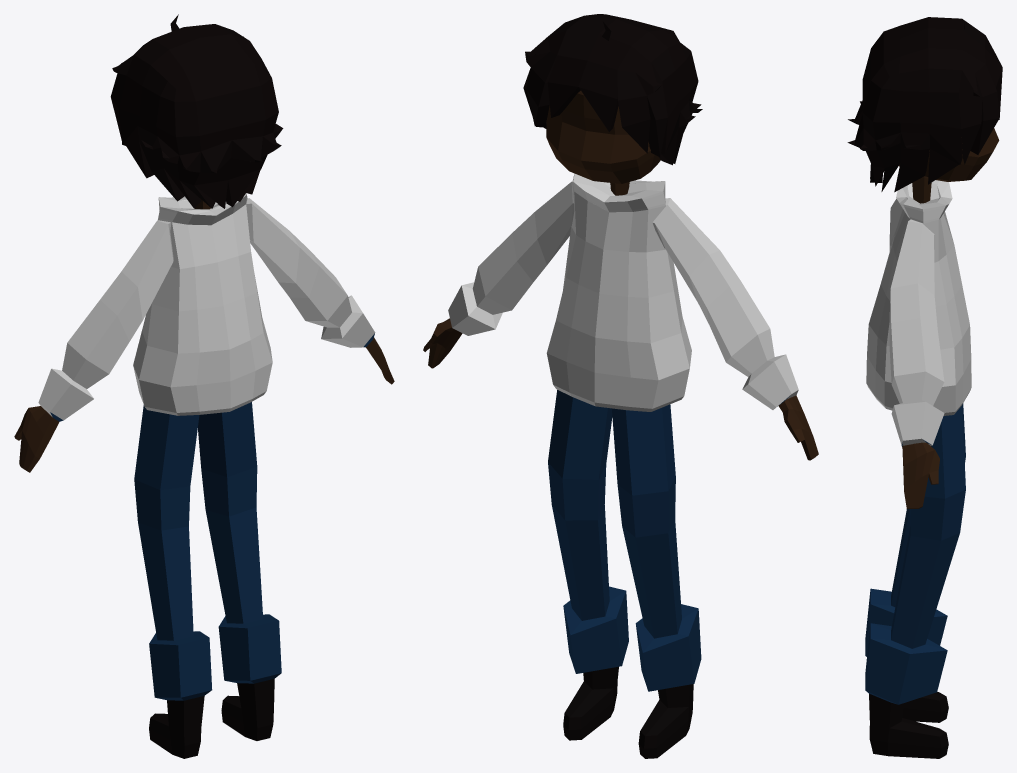
File: protagonista.obj
3 renders of one model, left to right at view 1: azimuth 30°, elevation 25°; view 2: azimuth 150°, elevation 25°; view 3: azimuth 270°, elevation 25°, orthographic. The views are drawn at different scales.
Visible parts, largest first — view 1: rosto; view 2: rosto; view 3: rosto.
Boxes of the visible parts, x1,y1,x2,y2 form: rosto: (14,14,394,758); rosto: (423,14,818,758); rosto: (847,17,1002,758).
Size of the model in its own units: 1.98 by 3.63 by 0.7091.
